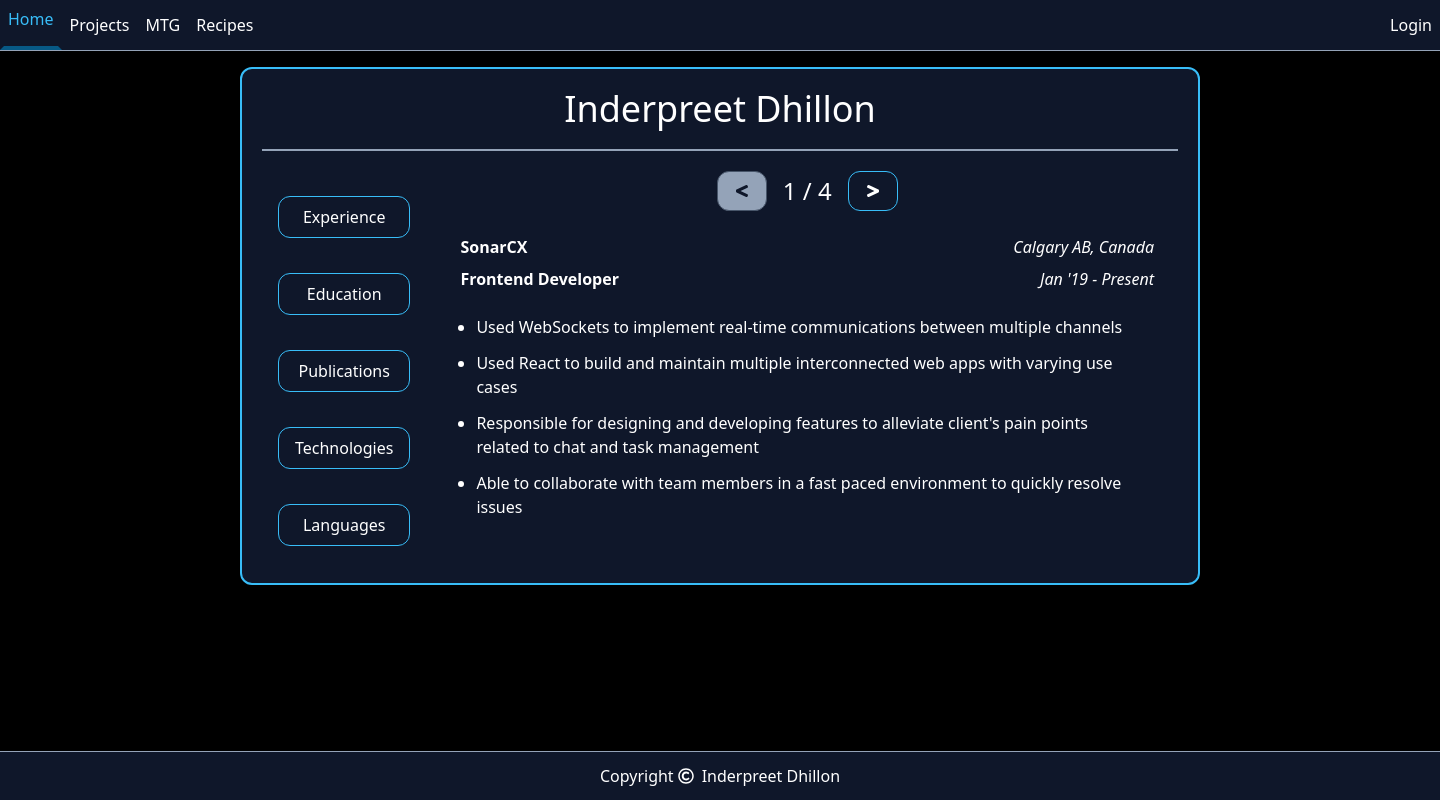
Home › should show publications
Click the button "Publications" at (344, 371), box [278,350,410,392]
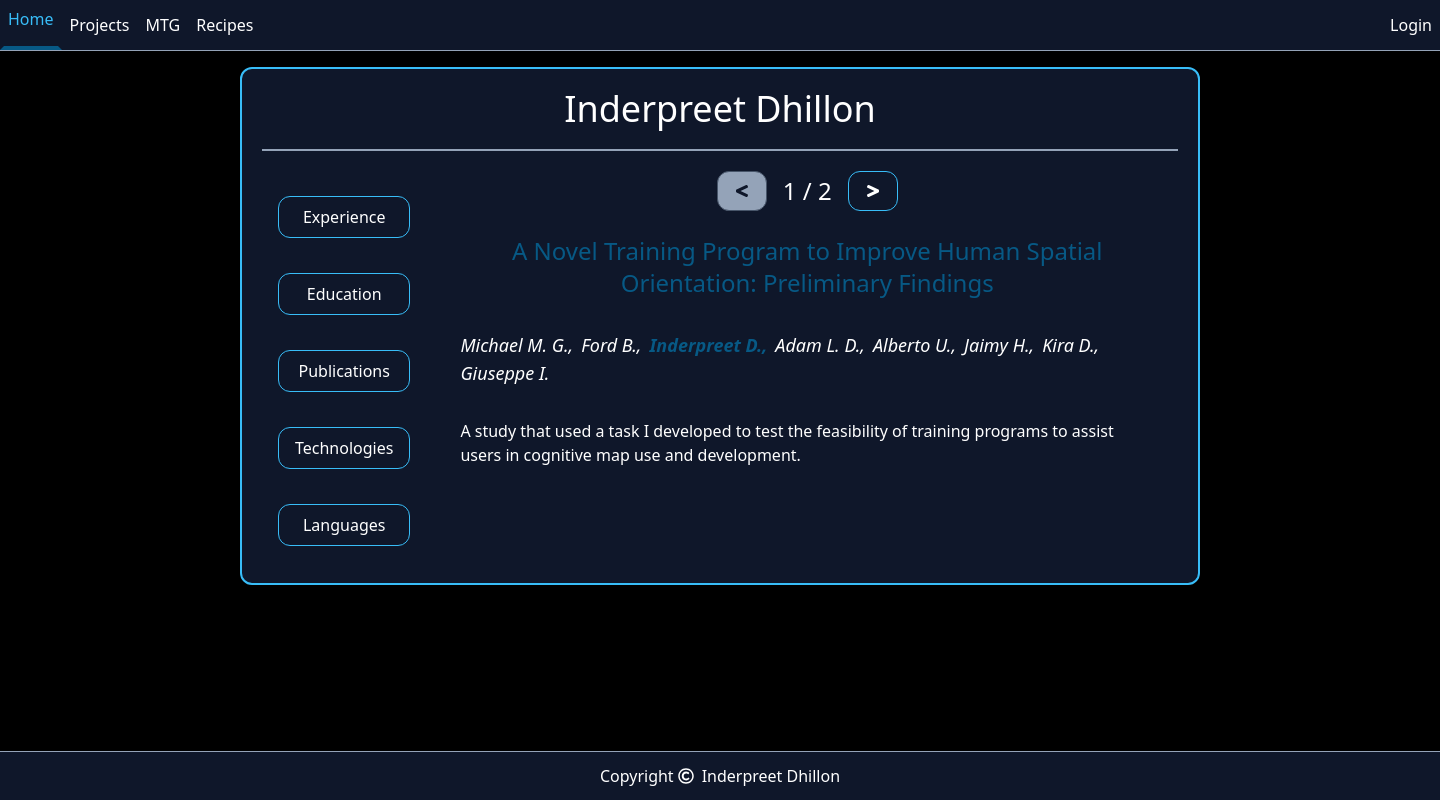
Now the link "A Novel Training Program to Improve Human Spatial Orientation: Preliminary Findings" is shown, box [460,235,1154,299]
Click the button named "Forward" at (873, 191), box [848,171,898,211]
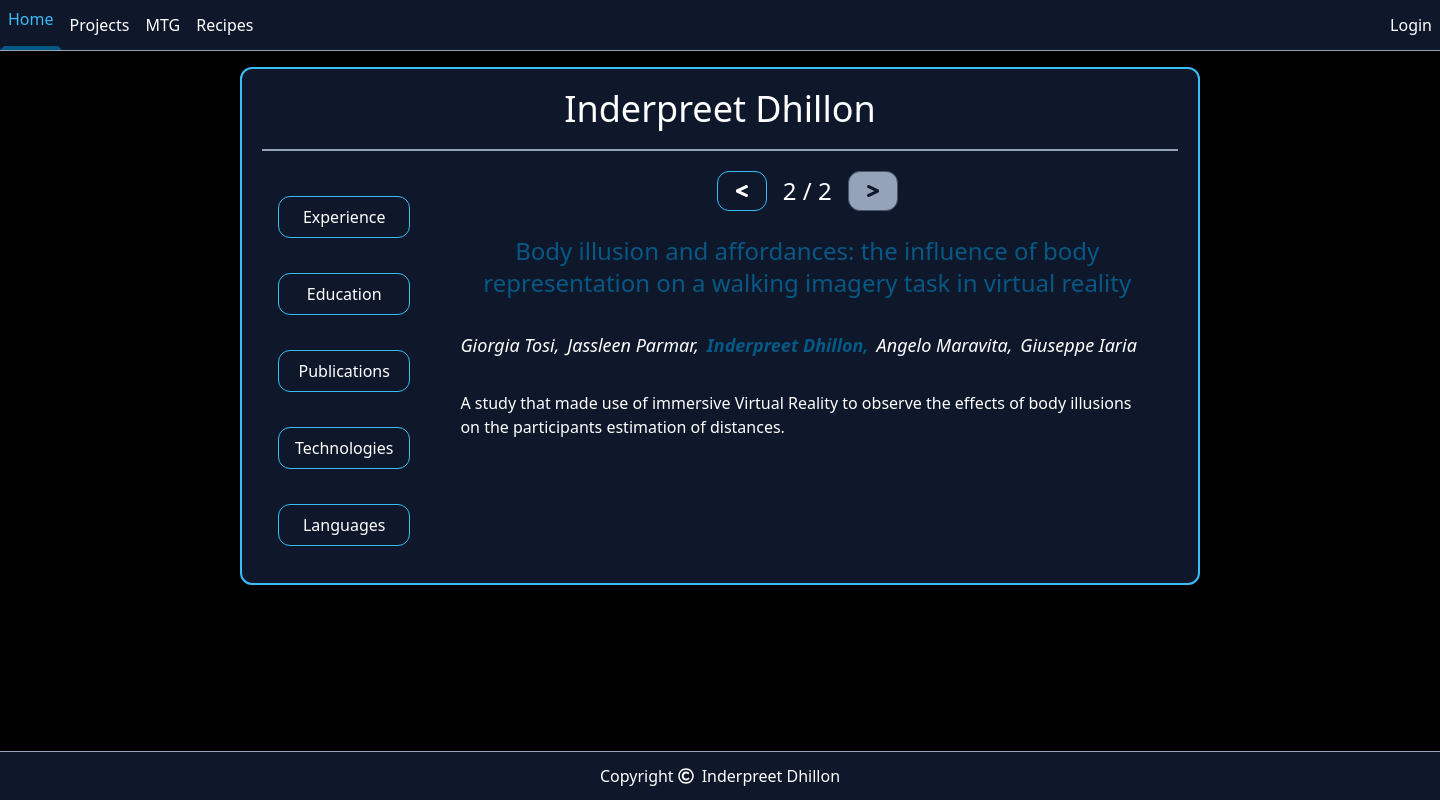
Now the link "Body illusion and affordances: the influence of body representation on a walking imagery task in virtual reality" is shown, box [460,235,1154,299]
